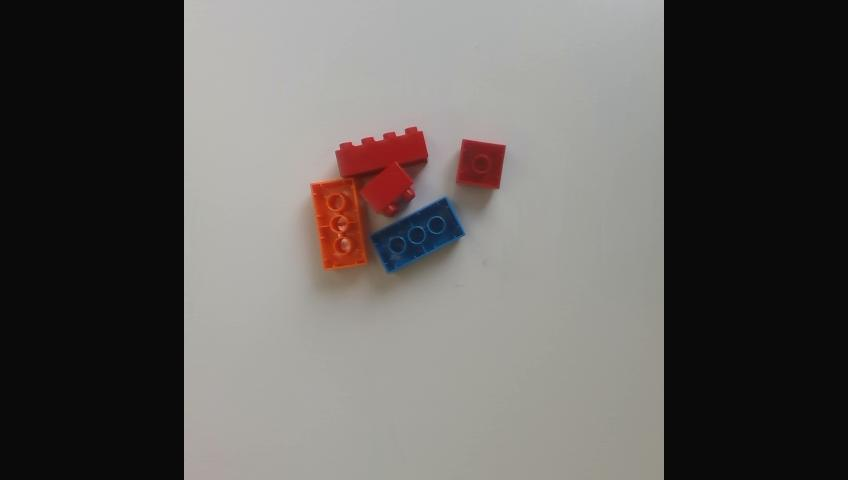2x2_red: (359, 158, 417, 217), (457, 137, 507, 187)
4x2_blue: (367, 194, 467, 273)
4x2_orange: (311, 175, 366, 268)
4x2_red: (336, 125, 428, 177)
